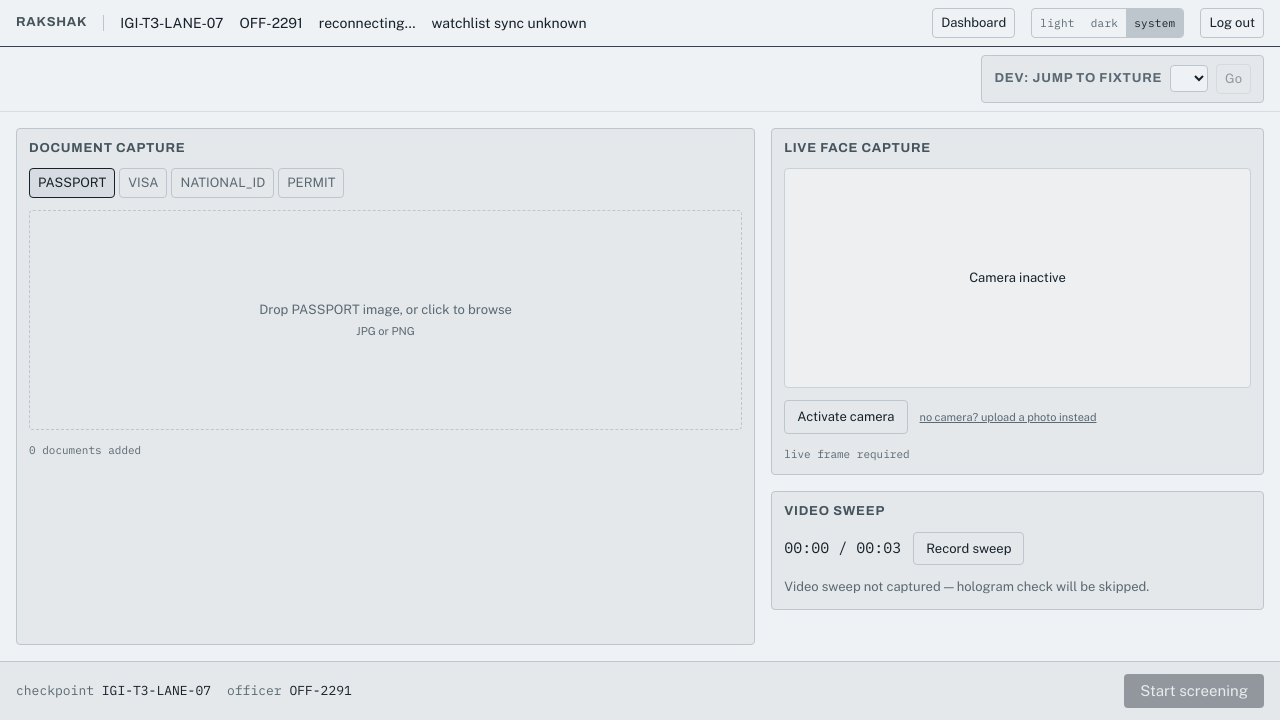
Test case: AppShell auth guard › logout clears authStore and redirects to /login
Check: the button "Start screening" is shown, box top-left (1124, 674), bottom-right (1264, 708)
Click the button "Log out".
click(1232, 23)  # box top-left (1200, 8), bottom-right (1264, 38)
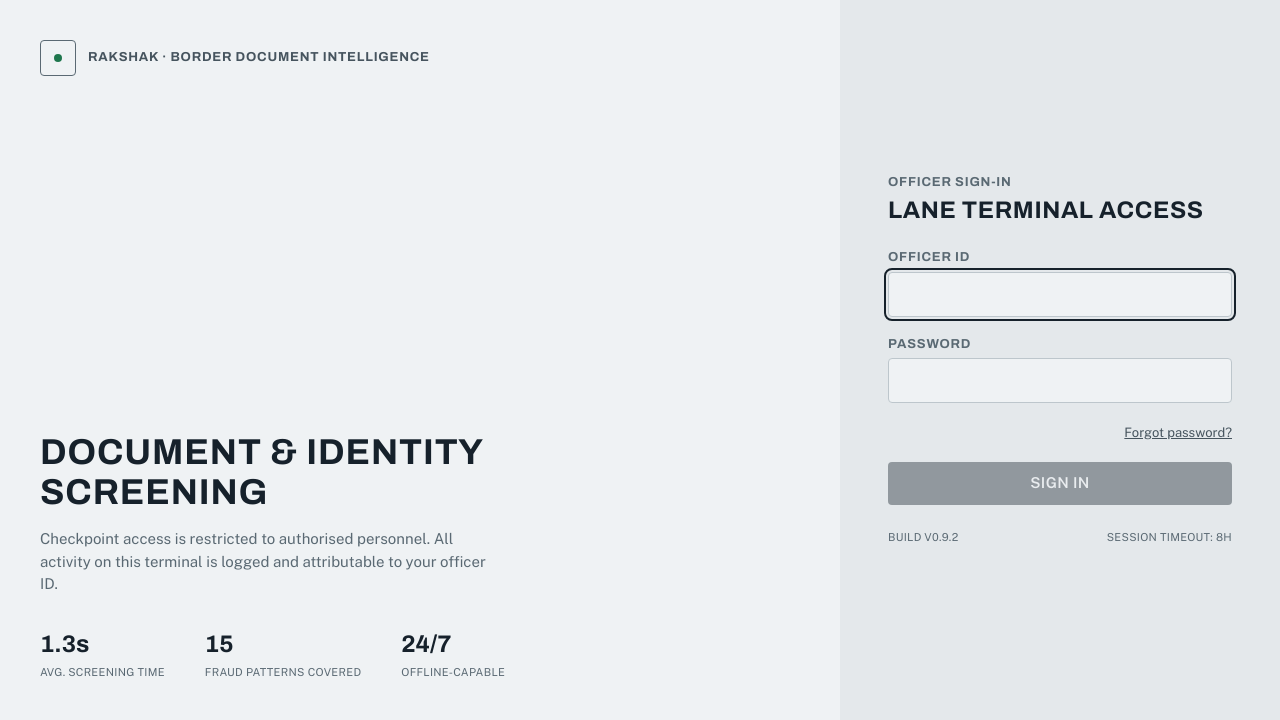
Check: the heading "Lane terminal access" is shown, box top-left (888, 194), bottom-right (1232, 226)
